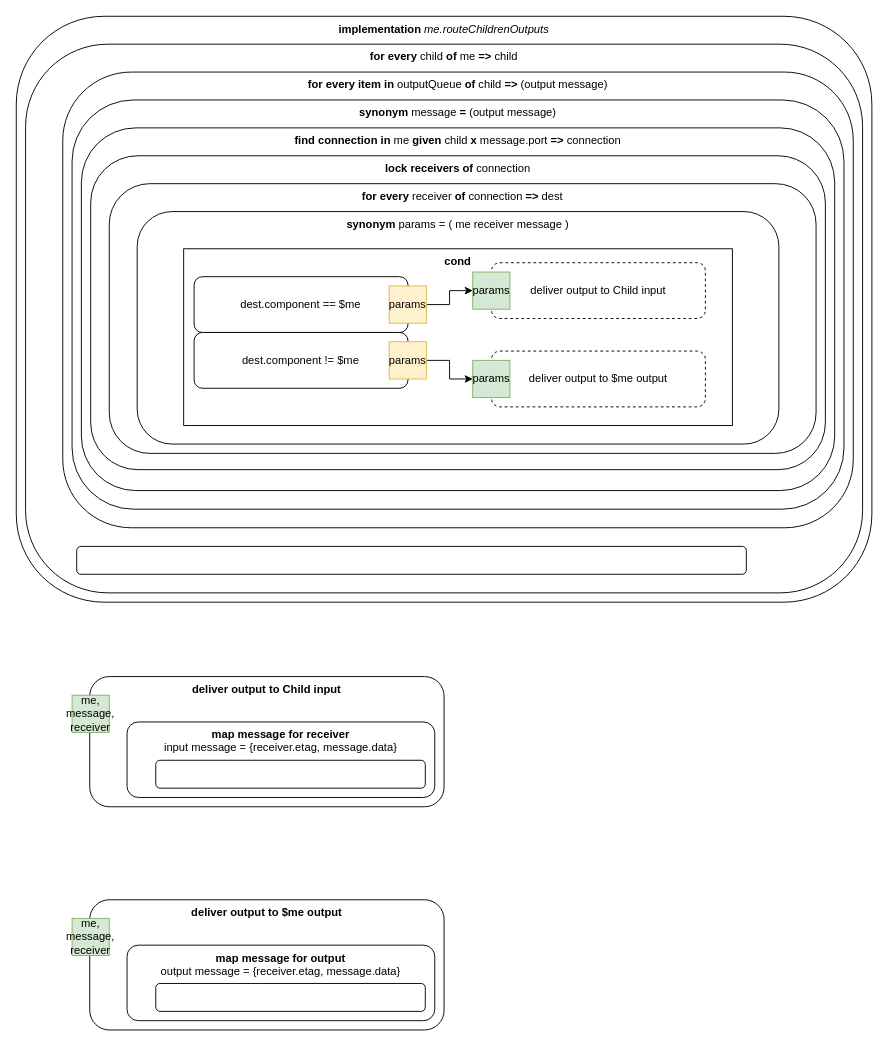
Some shapes in this 888 by 1046 pixel diagram are drawn without their labels. The shapes that lost their labels are listed below. From the top down, each one's centre as x and y in pixels, then its label:
At point (411, 559): "child.resetOutputQueue ()".
At point (290, 773): "receiver.enqueInputMessage (input message)".
At point (290, 997): "me.enqueOutputMessage (output message)".
